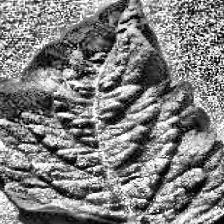Blossom Blight: (86, 150, 124, 194), (103, 82, 146, 114), (134, 151, 174, 178), (15, 74, 54, 95)
